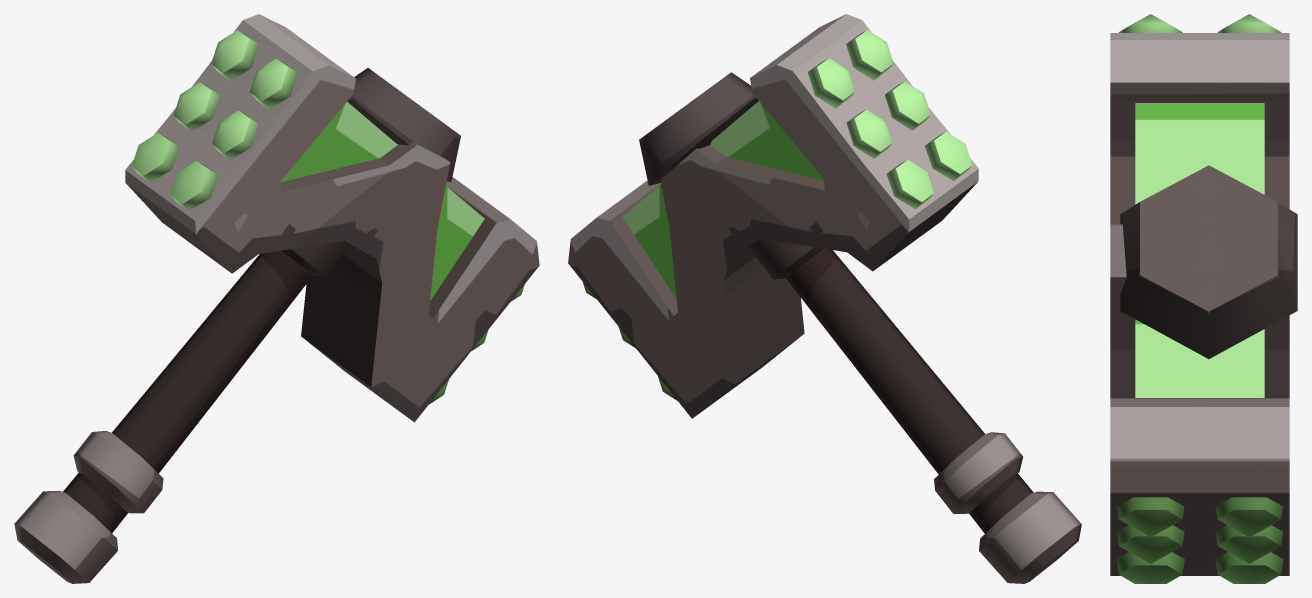
Rendered from Poison_04.FBX.
3 renders of one model, left to right at view 1: azimuth 30°, elevation 25°; view 2: azimuth 150°, elevation 25°; view 3: azimuth 270°, elevation 25°, orthographic. The views are drawn at different scales.
Visible parts, largest first — view 1: Poison_04; view 2: Poison_04; view 3: Poison_04.
Boxes of the visible parts, bbox=[...] form: Poison_04: bbox=[14, 14, 539, 583]; Poison_04: bbox=[568, 14, 1081, 583]; Poison_04: bbox=[1110, 14, 1297, 583].
Size of the model in its own units: 69.2 by 67.83 by 18.32.
